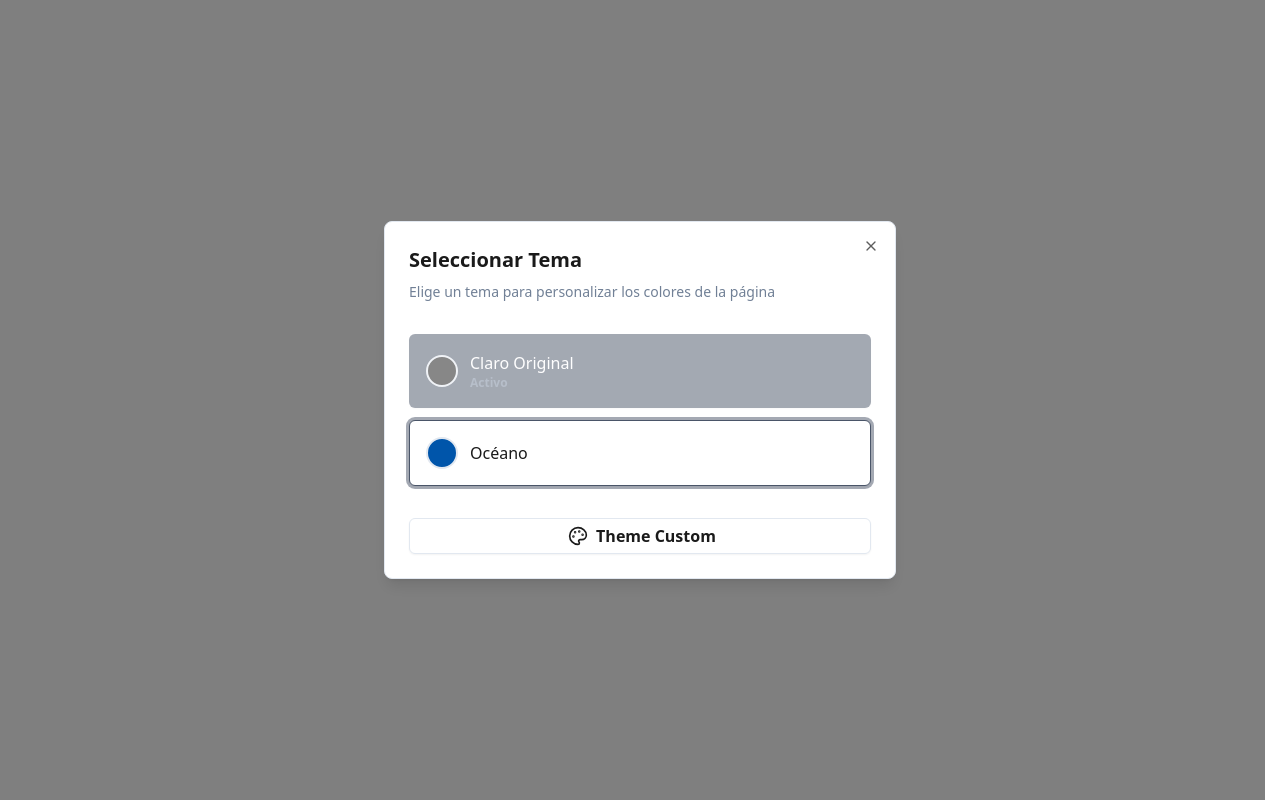
Scenario: ThemeSelectorModal confirmation before reset › calls changeTheme only after the confirmation is accepted
The width and height of the screenshot is (1280, 800).
Click the button "Océano" at coordinates (442, 453), box [409,420,871,486]
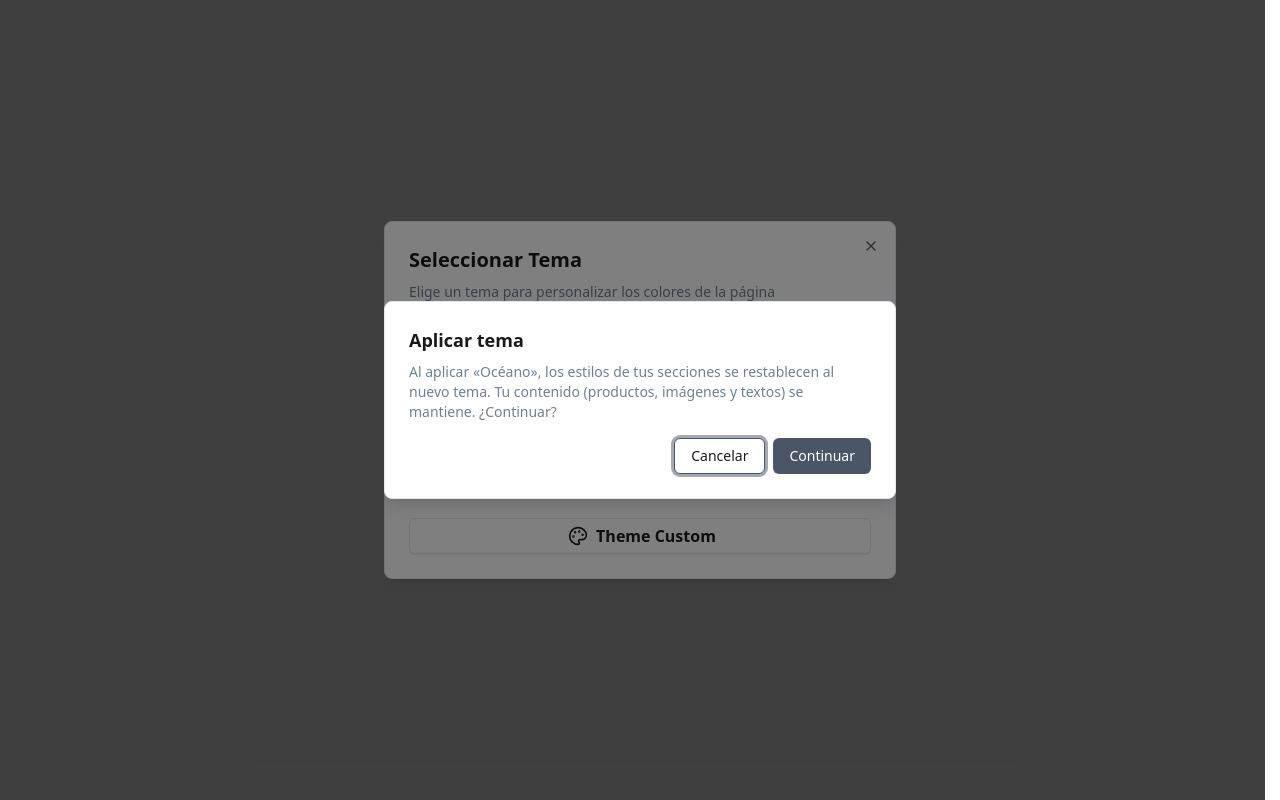
Expected: the dialog that starts with "Aplicar tema" is shown, [384,301,896,499]
Click the button "Continuar" at coordinates (822, 456), box [773,438,871,474]
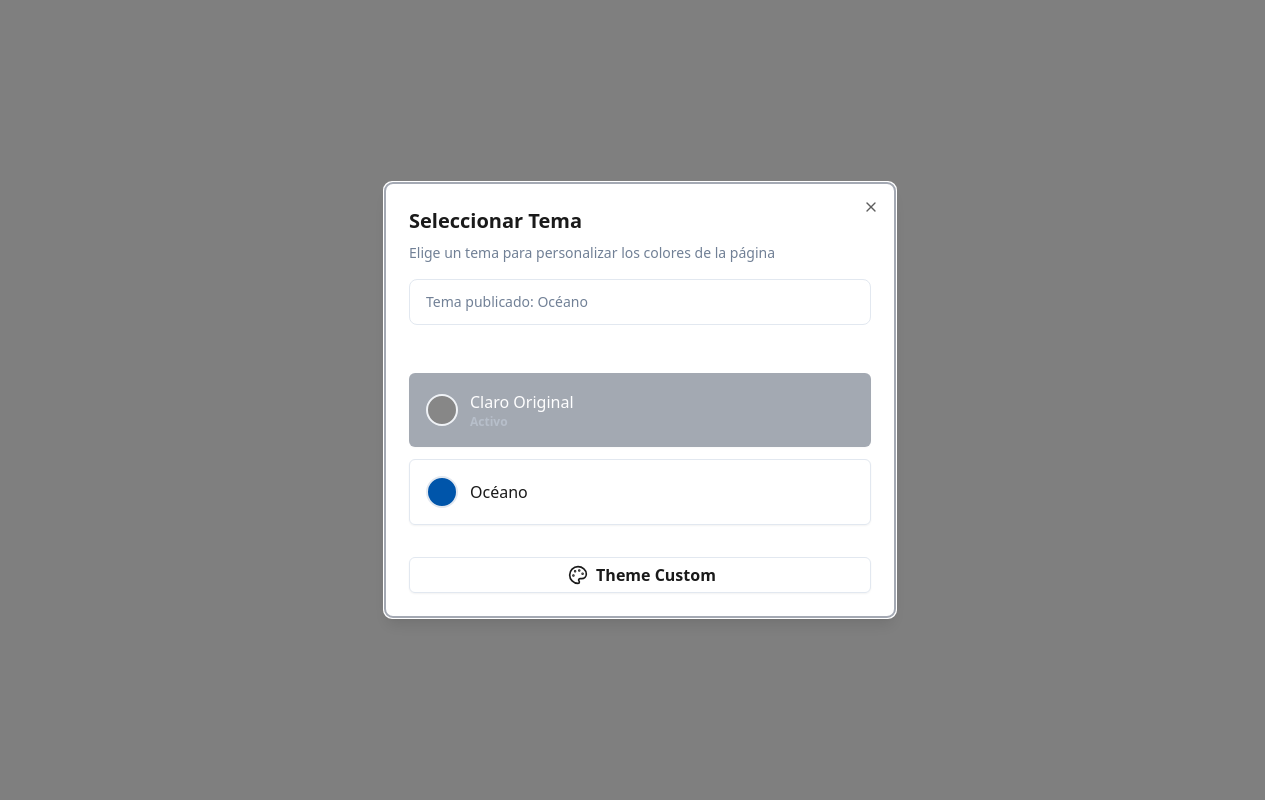
Expected: the text "Tema publicado: Océano" is shown, [426,292,588,311]
